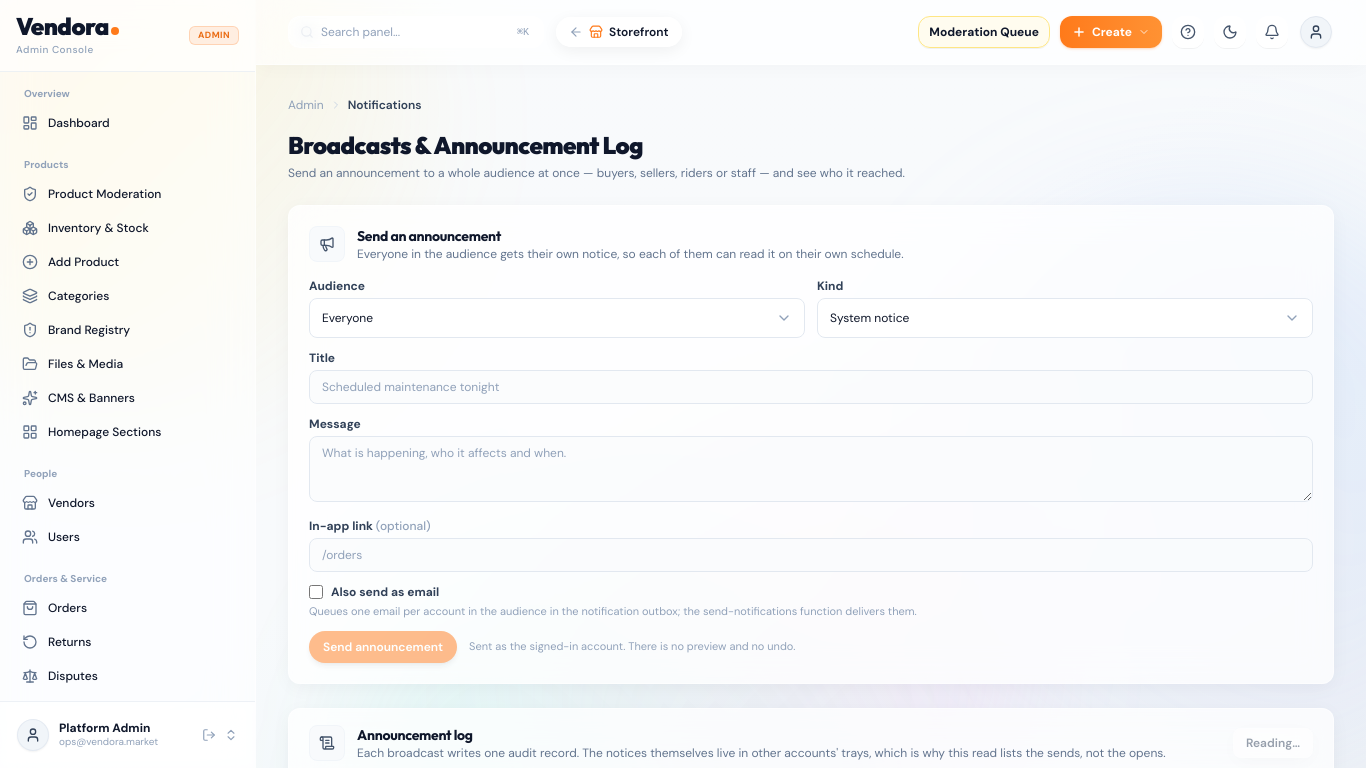
Test: AdminNotificationsPage email copy › does not touch broadcast_email while the checkbox is off
Type "Maintenance window" into the field labelled "Title" at (811,387), box [309,370,1313,404]
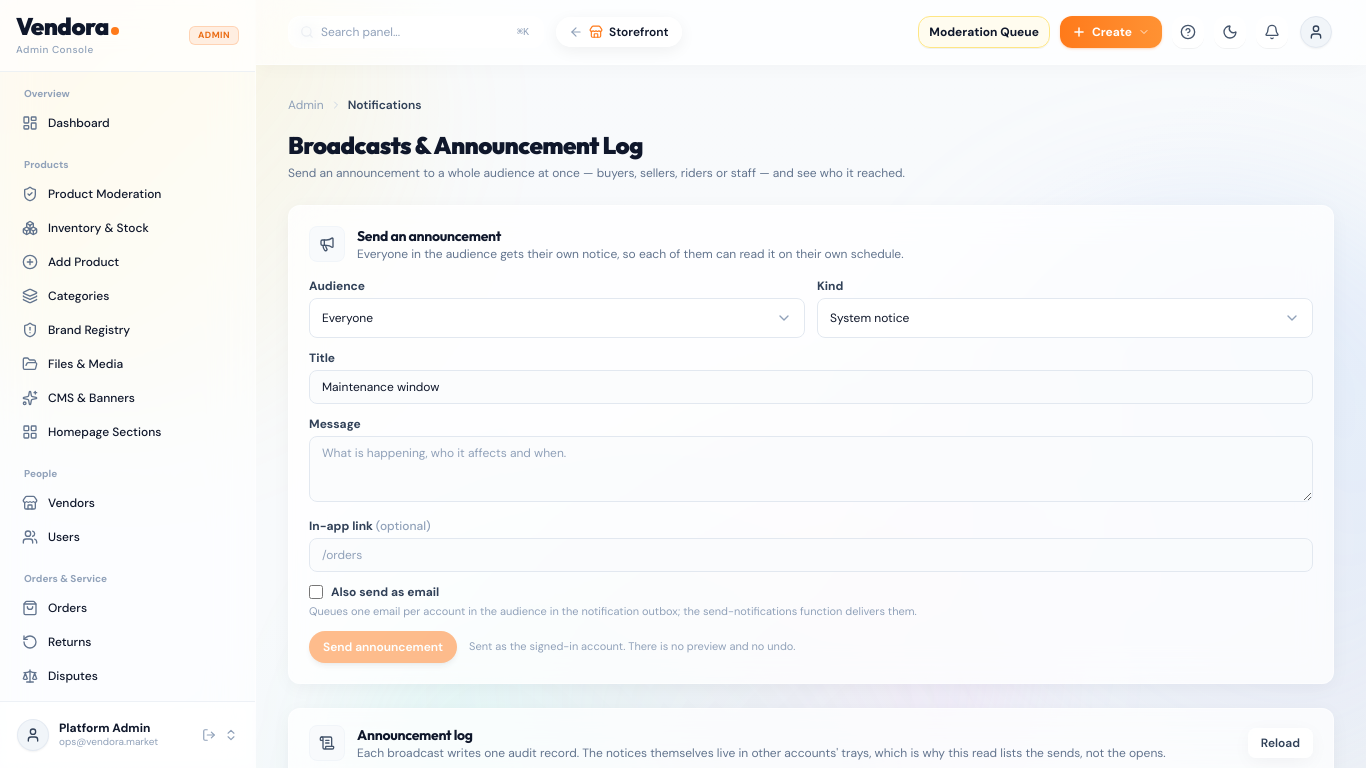
Type "Read-only from 02:00." into the text box labelled "Message" at (811,469), box [309,436,1313,502]
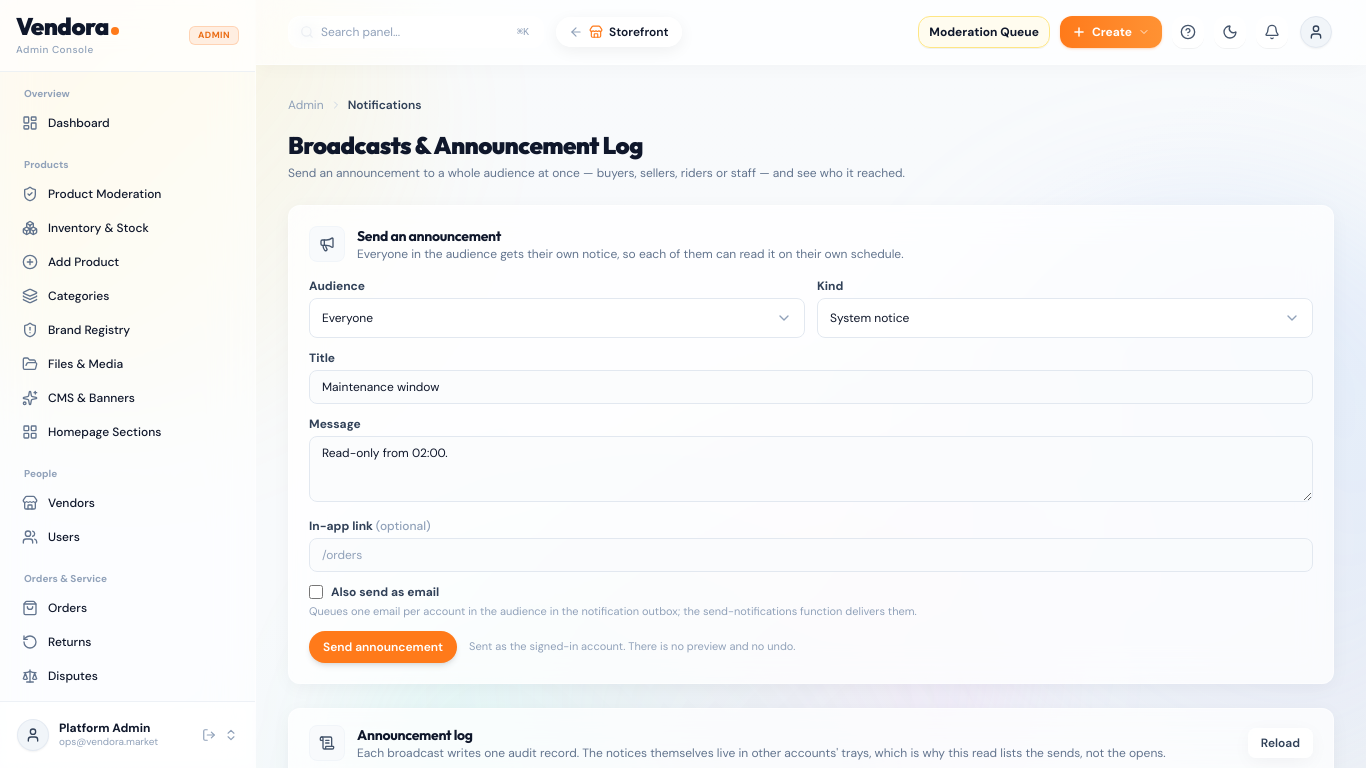
Click the button "Send announcement" at (383,647), box [309,631,457,663]
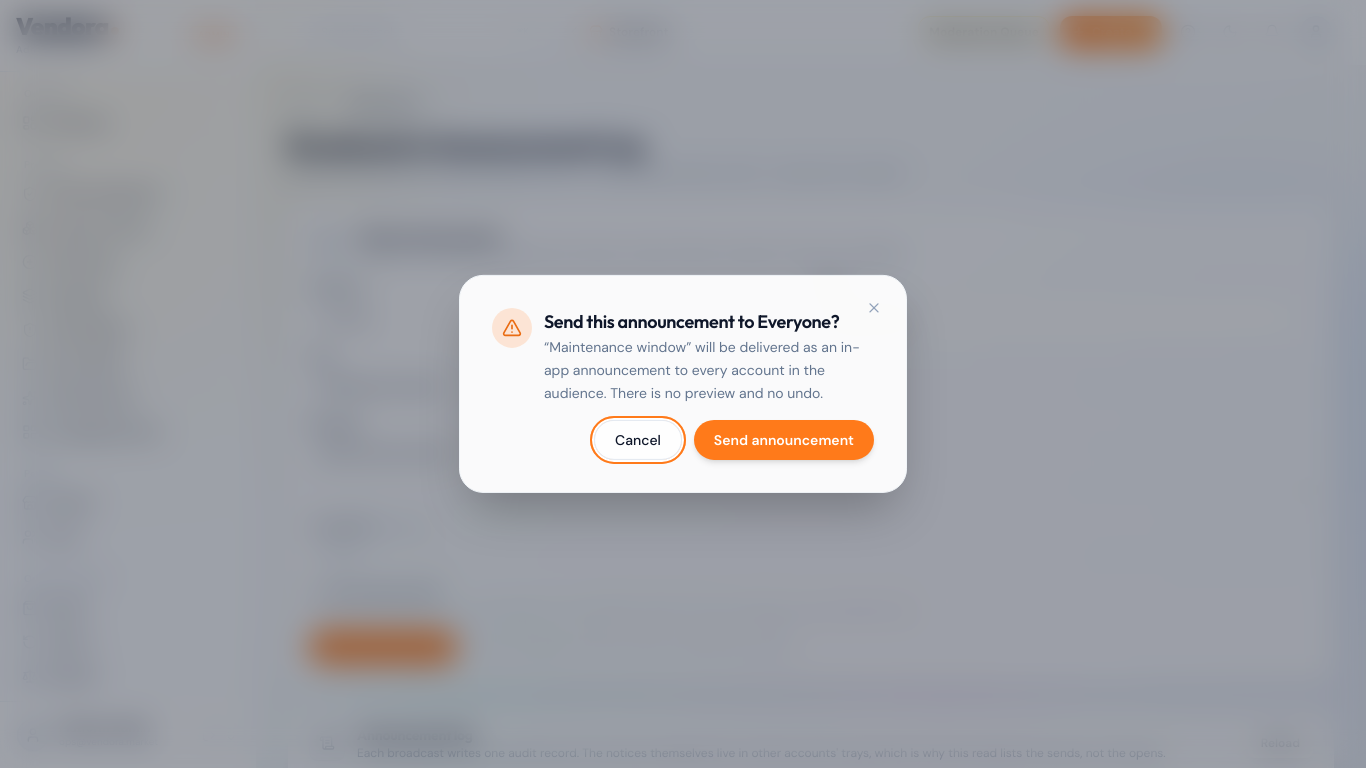
// the send confirms first — the dialog's own Send button performs it.
Click the button "Send announcement" at (784,440), box [694,420,874,460]
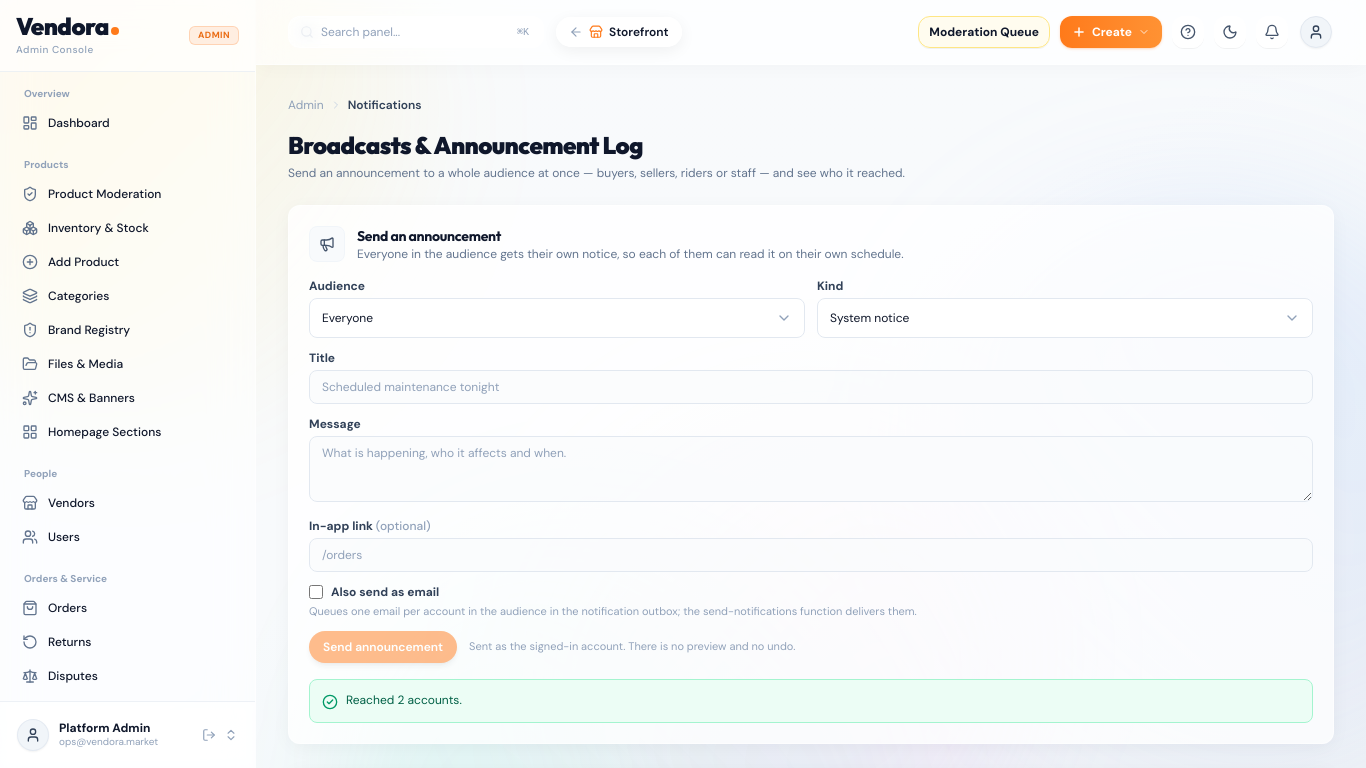
Result: the message with test id "broadcast-result" shows "Reached" at [346,692,397,708]
